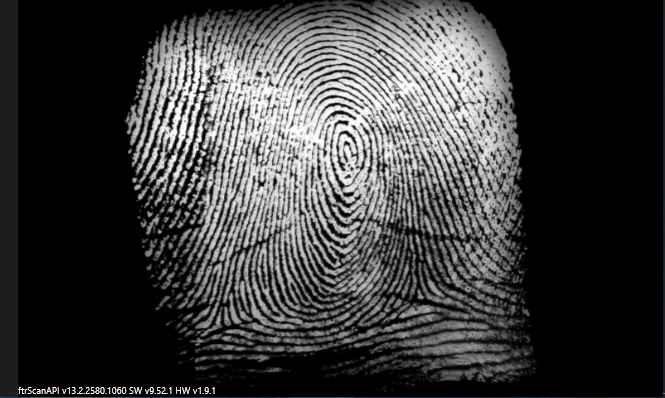nucelo: (330, 119, 359, 173)
verticilo: (406, 277, 438, 312), (203, 307, 231, 336)
